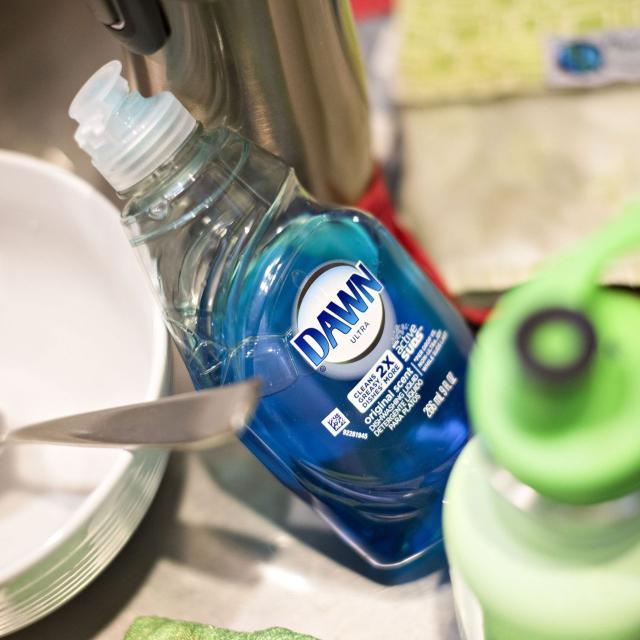plastic: (79, 59, 496, 588)
